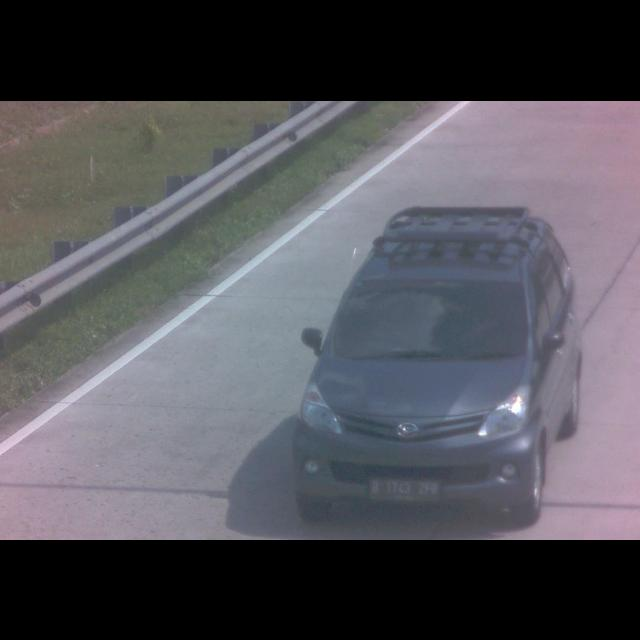plate: (367, 475, 442, 502)
